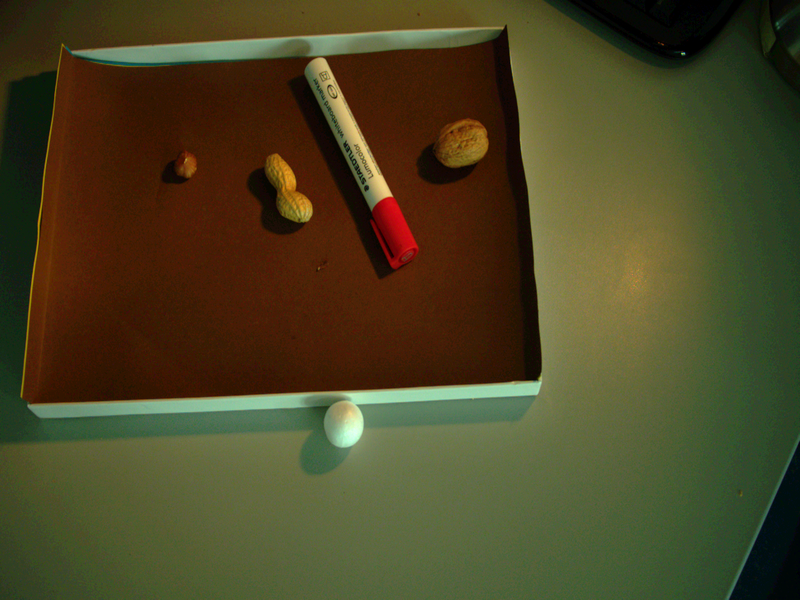walnut: (430, 111, 494, 176)
